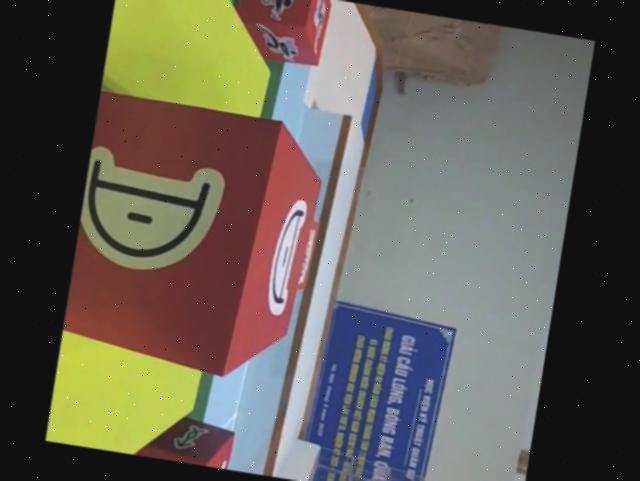R1: (217, 0, 336, 67)
R2 Real: (59, 78, 337, 391), (120, 402, 242, 470)
